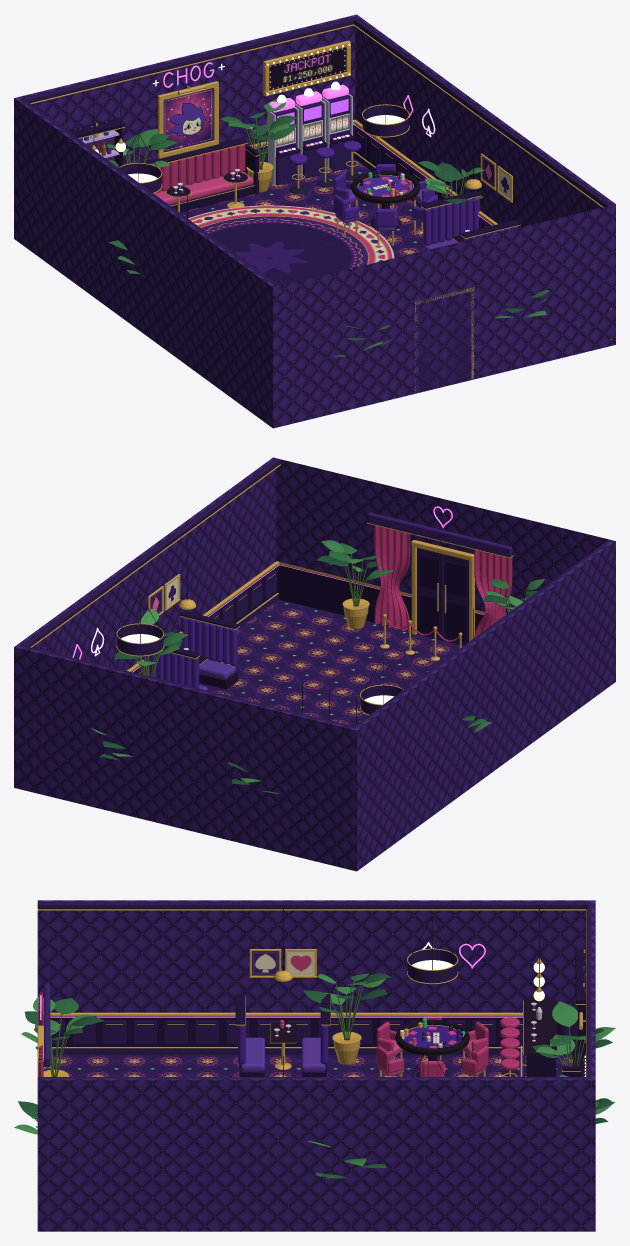
Rendered from room.glb.
3 renders of one model, top to bottom at view 1: azimuth 30°, elevation 25°; view 2: azimuth 150°, elevation 25°; view 3: azimuth 270°, elevation 25°, orthographic. The views are drawn at different scales.
Parts seen in each view (by area): view 1: RoomVelvet, RoomFlat, RoomRug, RoomGlow, RoomCarpet, RoomChogArt, RoomSuitCards; view 2: RoomVelvet, RoomFlat, RoomCarpet, RoomGlow; view 3: RoomVelvet, RoomFlat, RoomCarpet, RoomGlow, RoomSuitCards.
Part boxes in pixels (x1,y1,x2,y2): RoomVelvet: (14,14,615,428); RoomFlat: (20,17,612,426); RoomRug: (188,205,394,285); RoomGlow: (85,43,609,311); RoomCarpet: (180,159,445,257); RoomChogArt: (163,88,213,152); RoomSuitCards: (482,157,510,199); RoomVelvet: (14,457,615,871); RoomFlat: (20,459,611,794); RoomCarpet: (199,599,463,726); RoomGlow: (72,506,483,704); RoomVelvet: (37,900,595,1231); RoomFlat: (14,902,615,1178); RoomCarpet: (43,1054,572,1076); RoomGlow: (40,942,585,1076); RoomSuitCards: (252,951,314,975).
Bounding box in the file's own units: 44.67 × 17.01 × 57.62.
16 materials, 7 textured.
